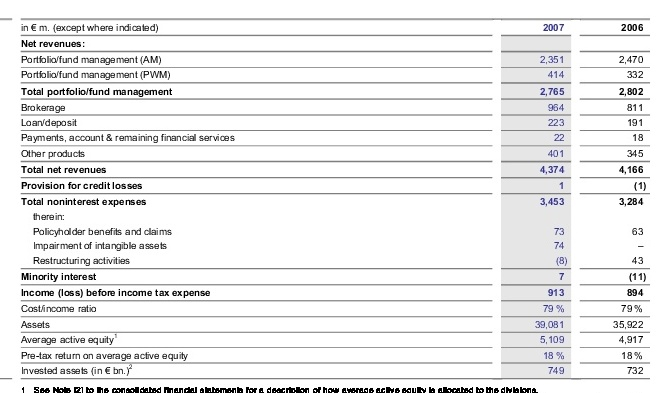table: (0, 0, 672, 393)
